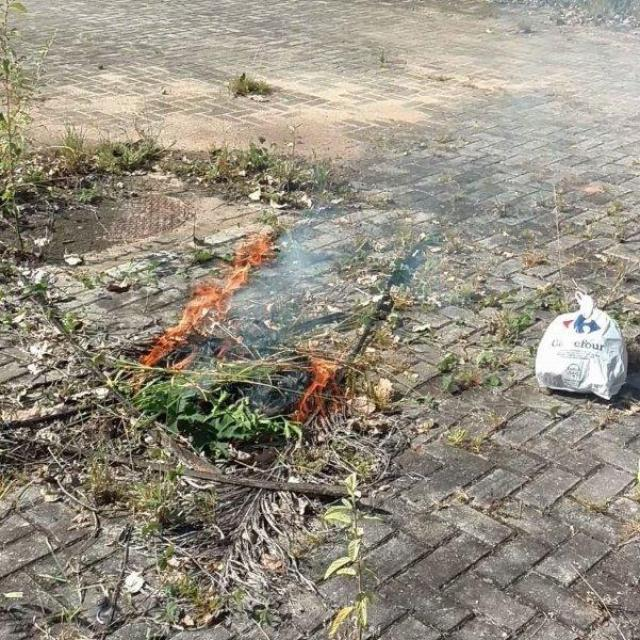Fire: (140, 234, 272, 372), (299, 350, 330, 413)
